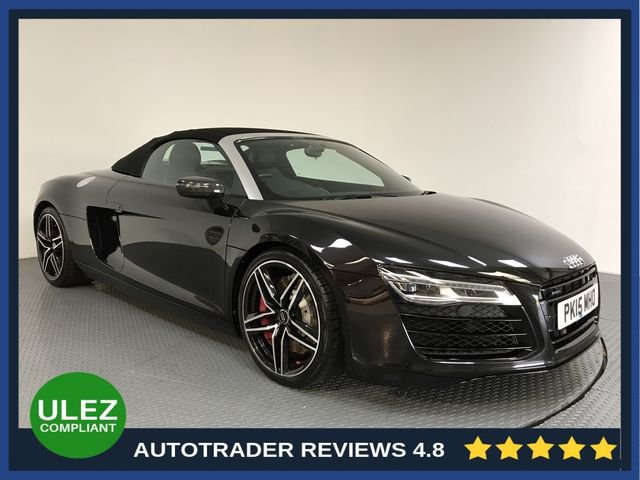car: (30, 126, 602, 382)
